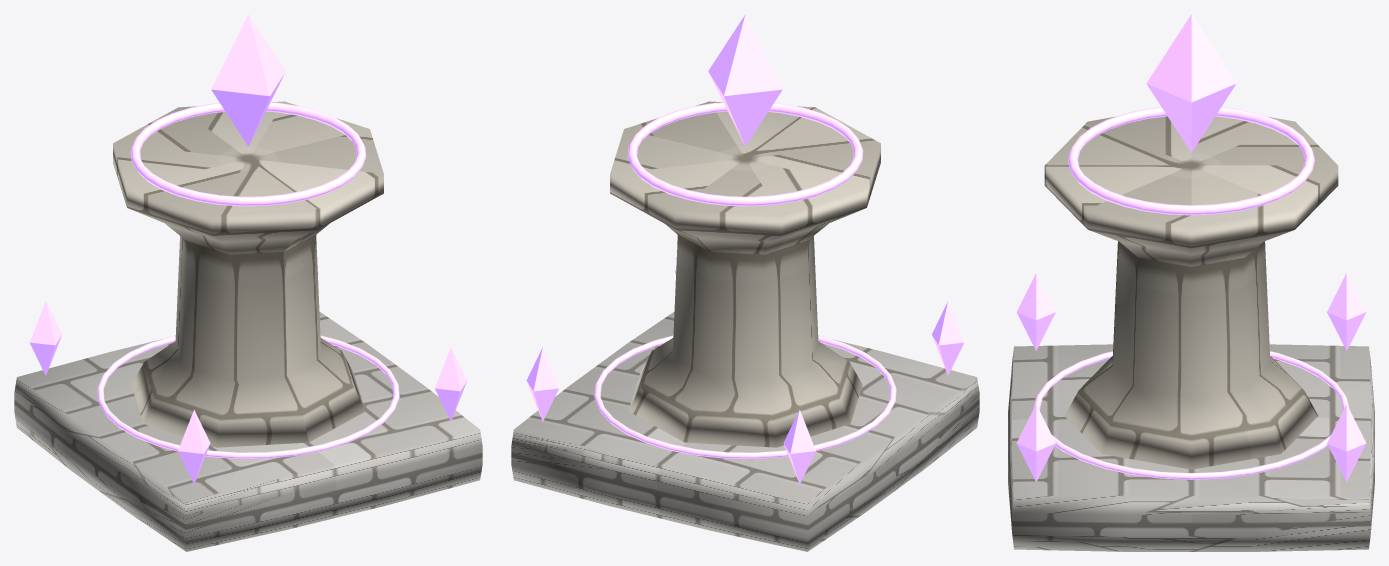
Rendered from station_altar.glb.
3 renders of one model, left to right at view 1: azimuth 30°, elevation 25°; view 2: azimuth 150°, elevation 25°; view 3: azimuth 270°, elevation 25°, orthographic. The views are drawn at different scales.
Visible parts, largest first — view 1: station_altar_stone_blocks, station_altar; view 2: station_altar_stone_blocks, station_altar; view 3: station_altar_stone_blocks, station_altar.
Part boxes in pixels (<box>): station_altar_stone_blocks: <box>14,101,482,551</box>; station_altar: <box>29,14,467,484</box>; station_altar_stone_blocks: <box>511,101,979,551</box>; station_altar: <box>526,14,964,484</box>; station_altar_stone_blocks: <box>1008,116,1374,551</box>; station_altar: <box>1016,14,1366,482</box>.
Bounding box in the file's own units: 1.3 × 1.82 × 1.3.
Materials: 2 (1 with a texture image).
